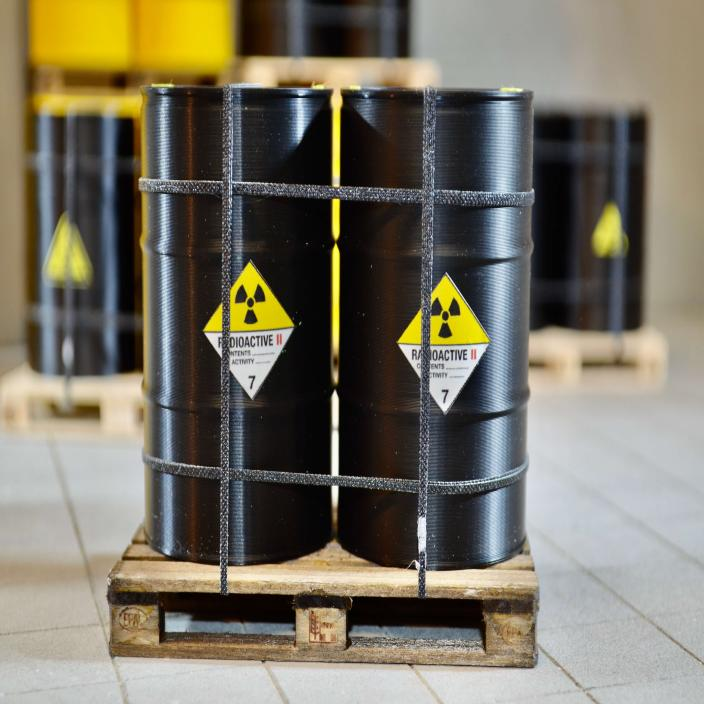doorway: (204, 259, 296, 403), (398, 273, 490, 415)
